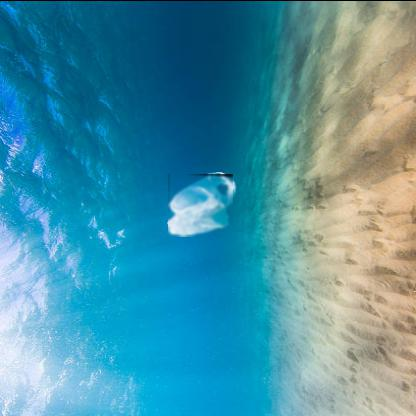plastic-bag: (168, 172, 235, 235)
